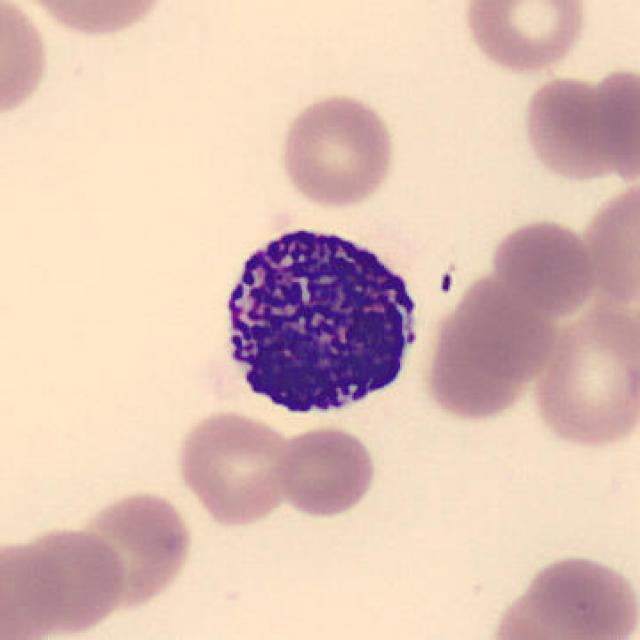Basophil: (208, 210, 432, 426)
RBC: (420, 264, 558, 425), (528, 300, 638, 451), (66, 486, 196, 612), (172, 405, 298, 529), (276, 90, 400, 210), (0, 524, 130, 638), (487, 550, 640, 640), (519, 69, 633, 185), (487, 215, 599, 319), (460, 0, 590, 78), (274, 423, 378, 520), (580, 176, 638, 308), (11, 0, 178, 41), (0, 0, 52, 129)
